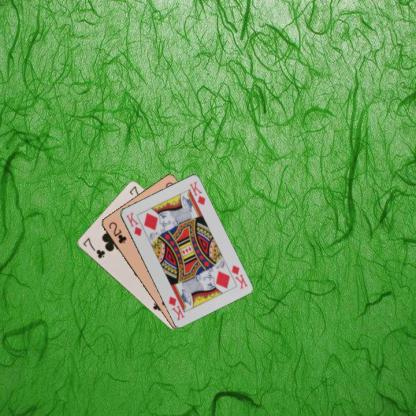2c: (106, 219, 128, 245)
7c: (80, 235, 107, 260)
Kd: (229, 262, 249, 290), (123, 210, 143, 237)
